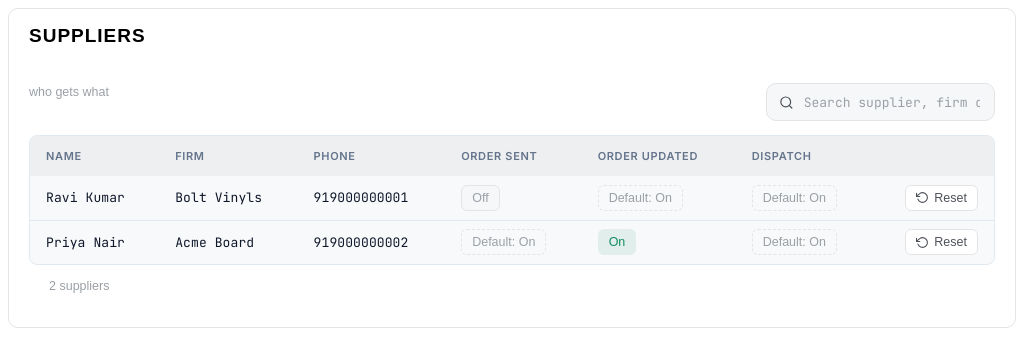
Test: ReminderPreferences › distinguishes an empty list from a search that matched nothing
Expected: the text "Bolt Vinyls" is shown, [159,176,298,220]
Type "zzzz" into the field with placeholder "Search supplier, firm or phone" at (892, 102), box [802,94,982,110]
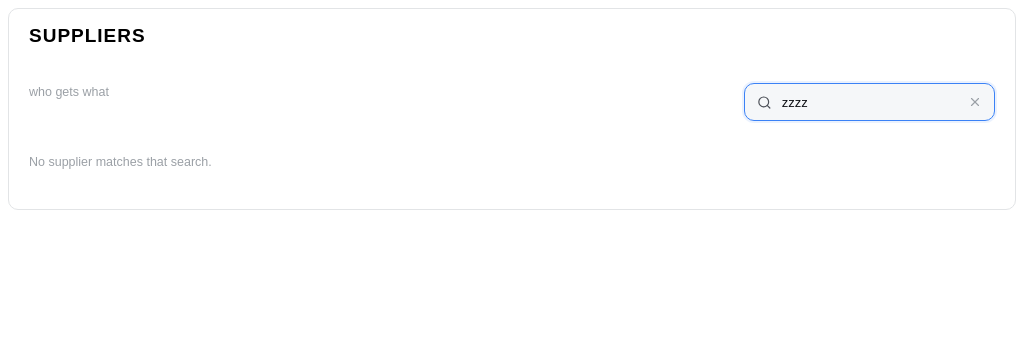
Now the text "No supplier matches that search." is shown, box [29,155,212,169]
